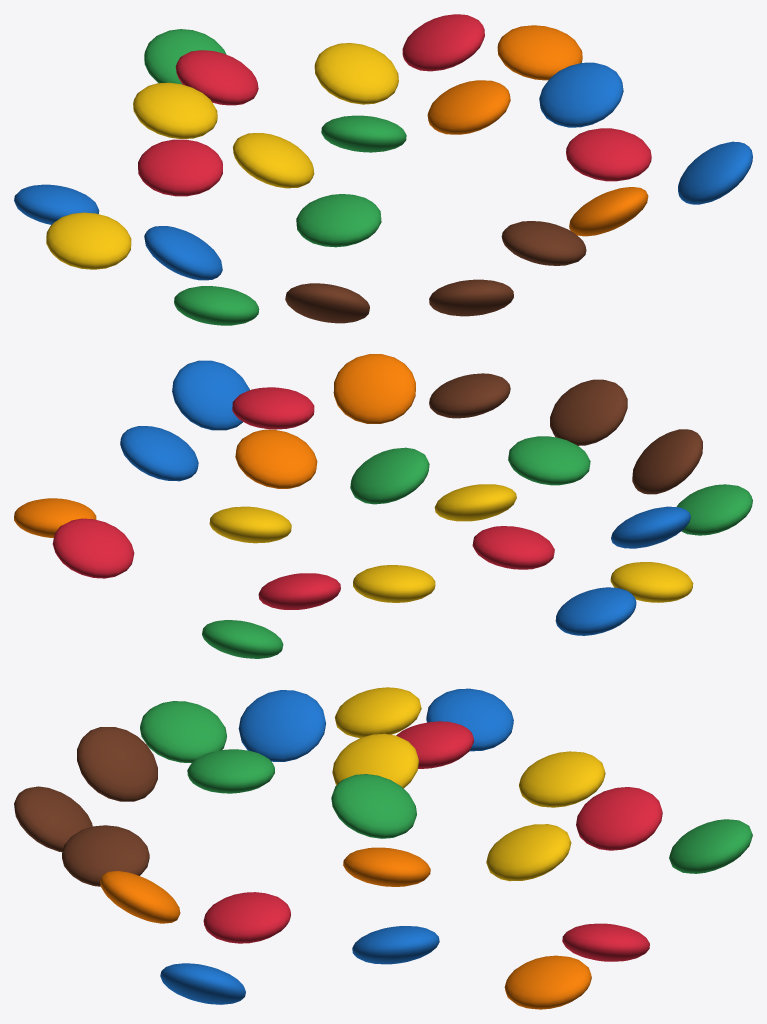
Rendered from confete.glb.
3 renders of one model, top to bottom at view 1: azimuth 30°, elevation 25°; view 2: azimuth 150°, elevation 25°; view 3: azimuth 270°, elevation 25°, orthographic. The views are drawn at different scales.
Visible parts, largest first — view 1: confete_8, confete_1, confete_18, confete_19, confete_13, confete_6, confete_15, confete_0, confete_4, confete_10, confete_12, confete_7 (+10 smaller); view 2: confete_16, confete_2, confete_5, confete_10, confete_0, confete_3, confete_17, confete_8, confete_15, confete_14, confete_18, confete_6 (+10 smaller); view 3: confete_20, confete_17, confete_12, confete_3, confete_21, confete_11, confete_13, confete_4, confete_1, confete_6, confete_14, confete_5 (+10 smaller).
Boxes of the visible parts, x1,y1,x2,y2 form: confete_8: [539, 62, 623, 127]; confete_1: [314, 43, 398, 104]; confete_18: [138, 139, 222, 196]; confete_19: [46, 212, 131, 269]; confete_13: [133, 82, 217, 138]; confete_6: [566, 128, 651, 181]; confete_15: [296, 194, 381, 247]; confete_0: [402, 14, 484, 71]; confete_4: [497, 25, 582, 80]; confete_10: [427, 80, 510, 134]; confete_12: [175, 50, 258, 105]; confete_7: [232, 133, 314, 188]; confete_16: [333, 354, 415, 423]; confete_2: [172, 360, 249, 430]; confete_5: [550, 379, 627, 445]; confete_10: [235, 429, 317, 488]; confete_0: [52, 518, 134, 578]; confete_3: [350, 447, 429, 504]; confete_17: [632, 429, 702, 494]; confete_8: [120, 426, 198, 481]; confete_15: [508, 436, 590, 485]; confete_14: [555, 587, 636, 635]; confete_18: [472, 526, 554, 569]; confete_6: [232, 387, 314, 429]; confete_20: [238, 690, 325, 761]; confete_17: [77, 727, 157, 801]; confete_12: [576, 787, 662, 850]; confete_3: [331, 774, 416, 838]; confete_21: [140, 701, 226, 762]; confete_11: [62, 825, 149, 886]; confete_13: [519, 751, 605, 807]; confete_4: [504, 955, 591, 1009]; confete_1: [486, 824, 571, 881]; confete_6: [203, 892, 290, 943]; confete_14: [426, 688, 513, 751]; confete_5: [14, 786, 92, 852].
Bounding box in the file's own units: 0.9452 × 0.1305 × 0.9685.
Materials: 1 (1 with a texture image).
